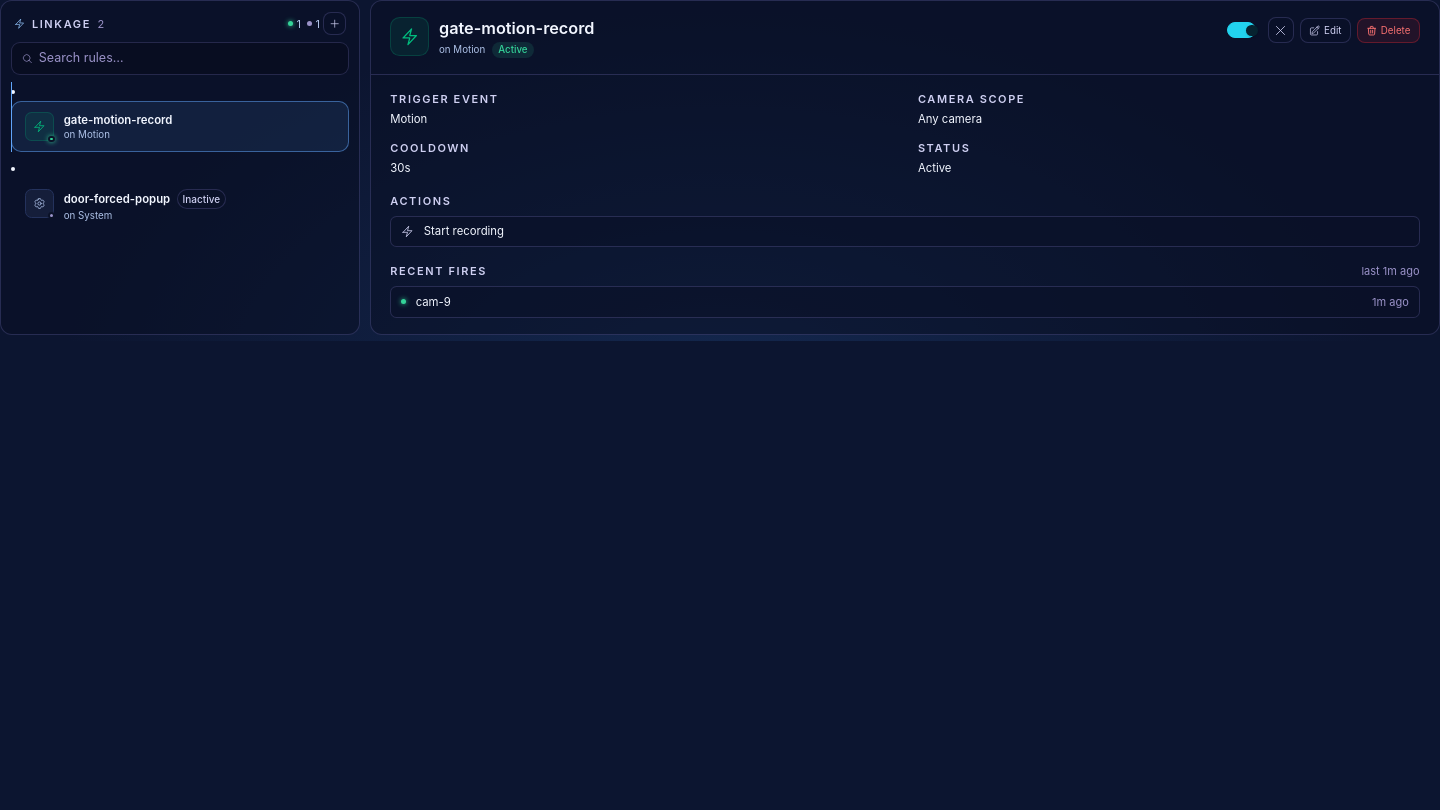
Test: the camera scope picker › offers the recorder's cameras, not just VMS-owned rows
The image size is (1440, 810).
Click the button named "new rule". click: (335, 24)
box: left=323, top=12, right=346, bottom=35
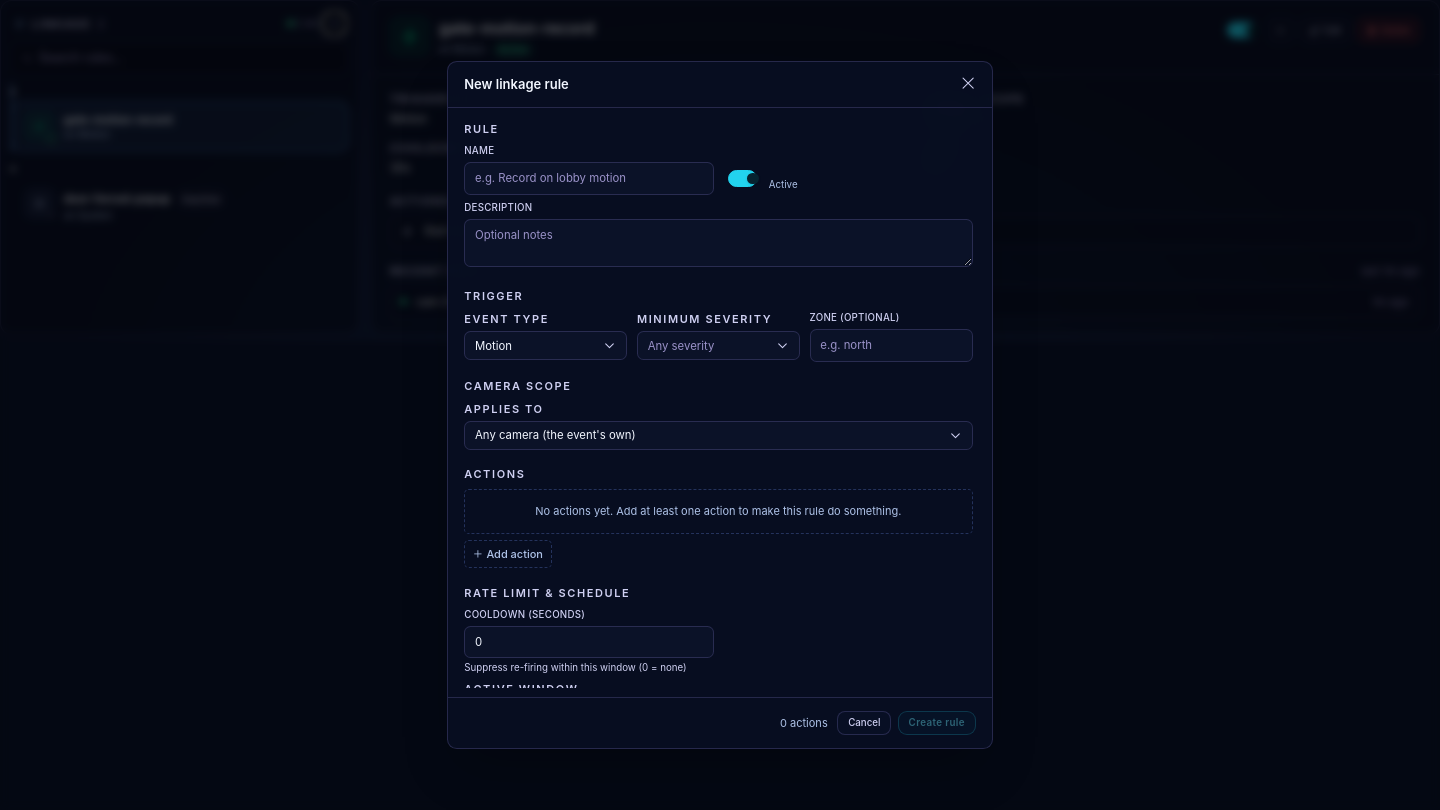
Click the button with aria-label "applies to". click: (555, 435)
box: left=464, top=421, right=973, bottom=450
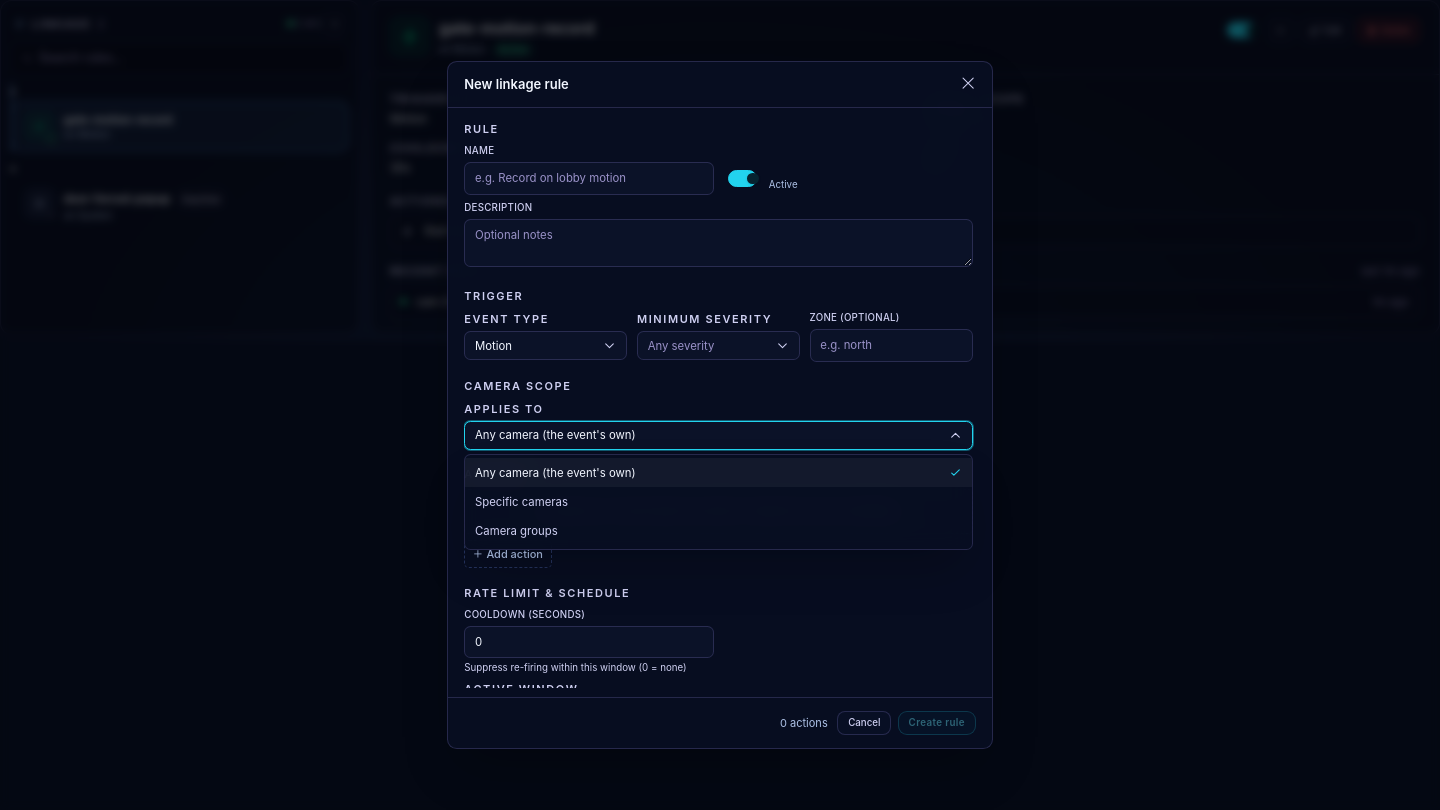
Click the option "Specific cameras". click: (521, 502)
box: left=465, top=487, right=972, bottom=517
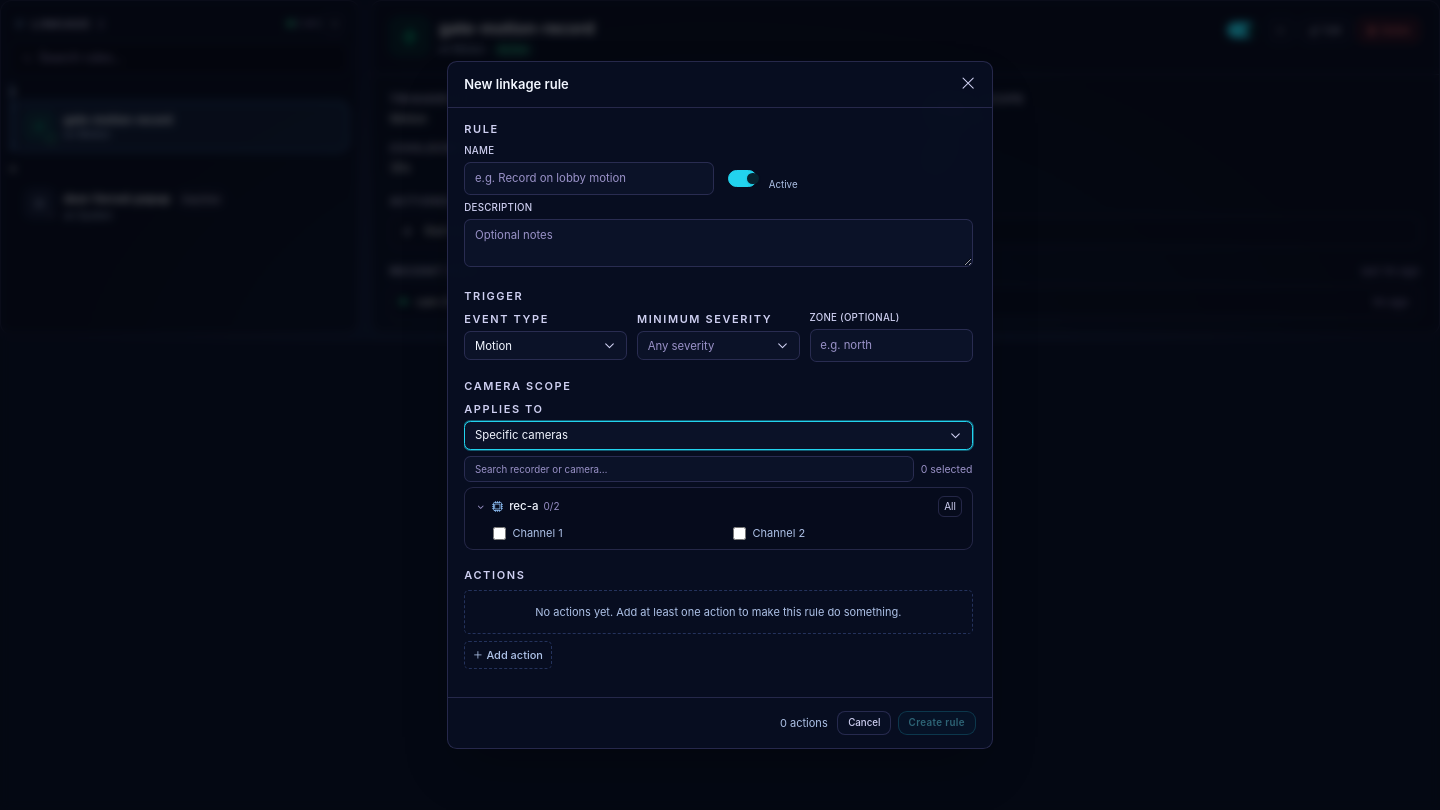
Expected: the text "Channel 1" is shown, left=512, top=525, right=563, bottom=541
Expected: the text "Channel 2" is shown, left=752, top=525, right=805, bottom=541
